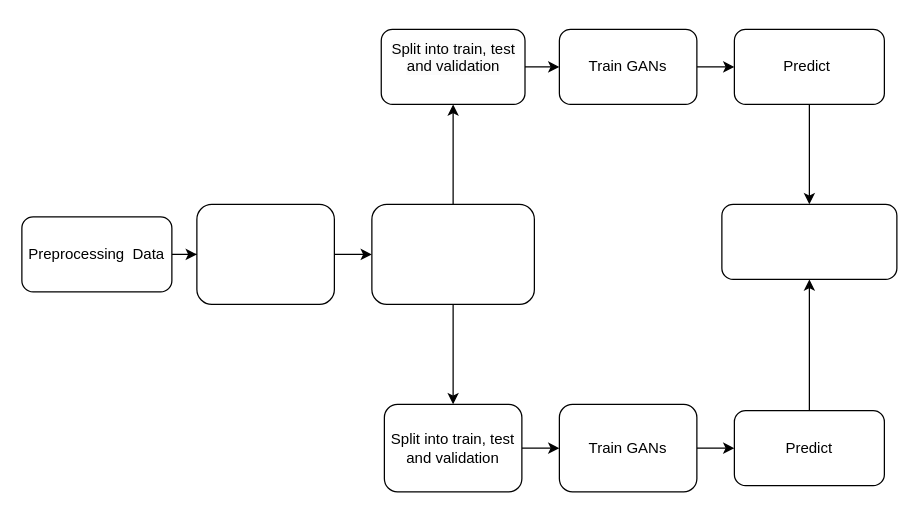
Some shapes in this 919 by 514 pixel diagram are drawn without their labels. Here are the shapes that lost their labels. From the top down, the centre of each, then its label:
[265,253]: Data into Word2vec
[452,253]: Split Data into 0 and 1
[809,241]: Compare and Predict with the highest probability
